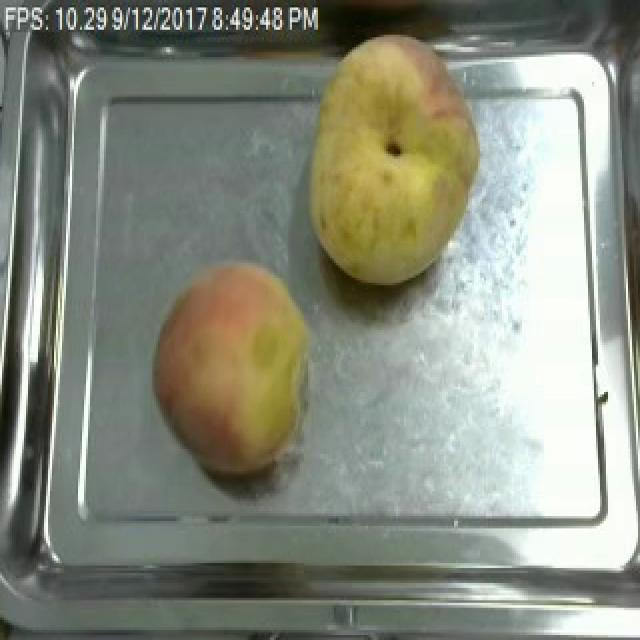Fruit: (296, 22, 490, 293), (150, 251, 322, 486)
